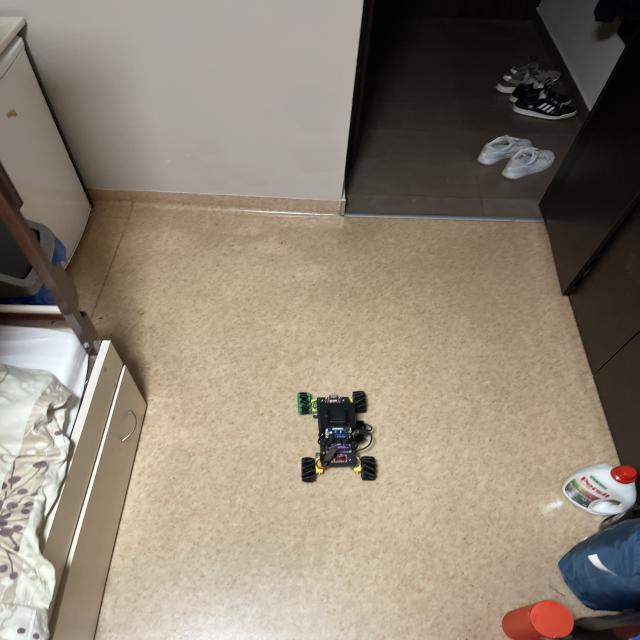robot: (298, 391, 376, 482)
